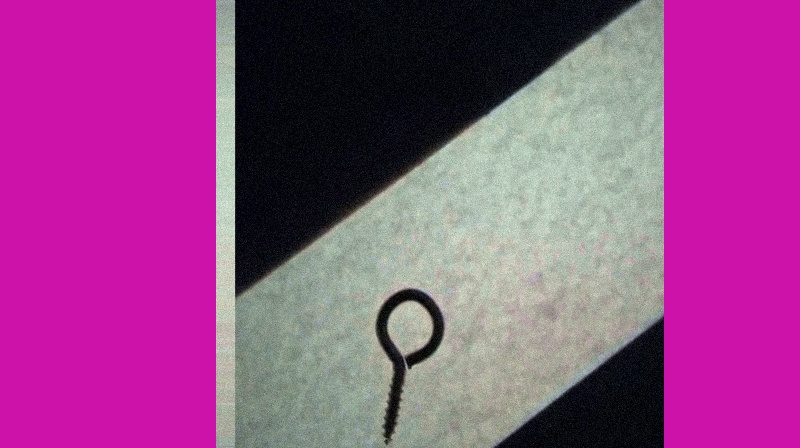O001: (369, 285, 448, 447)
